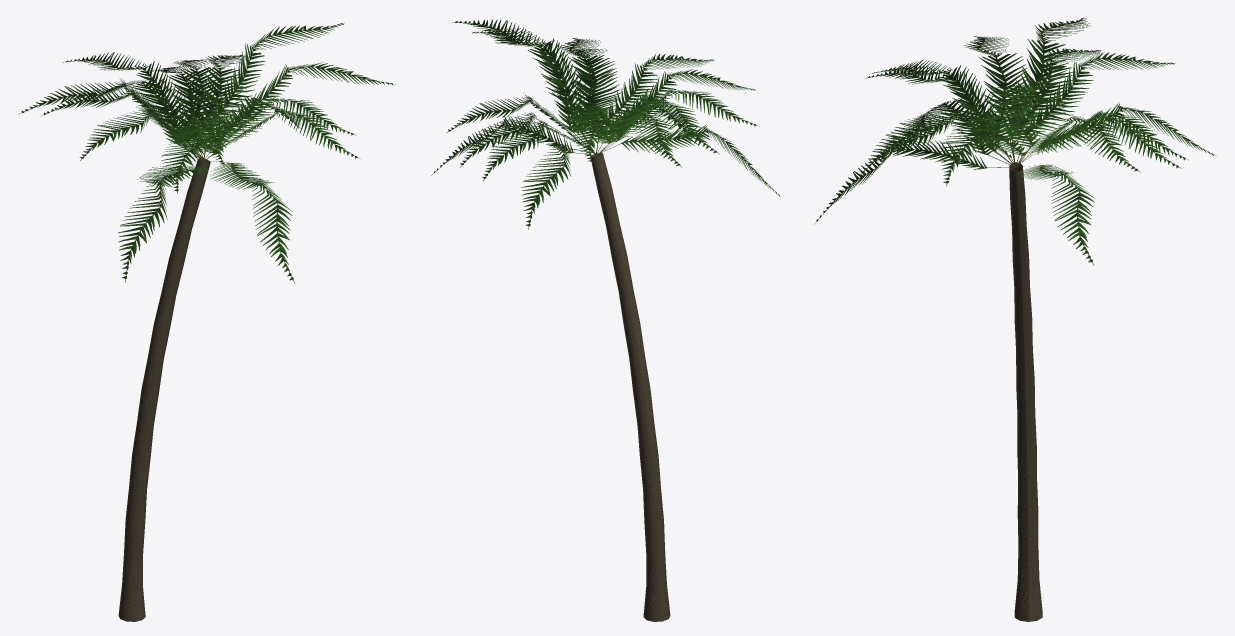
File: SM_Palm_01.gltf
3 views of the same model, side by side, from view 1: azimuth 30°, elevation 25°; view 2: azimuth 150°, elevation 25°; view 3: azimuth 270°, elevation 25° (orthographic). The views are drawn at different scales.
Parts seen in each view (by area): view 1: SM_Palm_01; view 2: SM_Palm_01; view 3: SM_Palm_01.
Part boxes in pixels (bbox=[...]): SM_Palm_01: bbox=[18, 23, 395, 621]; SM_Palm_01: bbox=[431, 19, 780, 621]; SM_Palm_01: bbox=[814, 17, 1215, 621].
Bounding box in the file's own units: 7.51 × 11.97 × 7.39.
2 materials, 2 textured.
